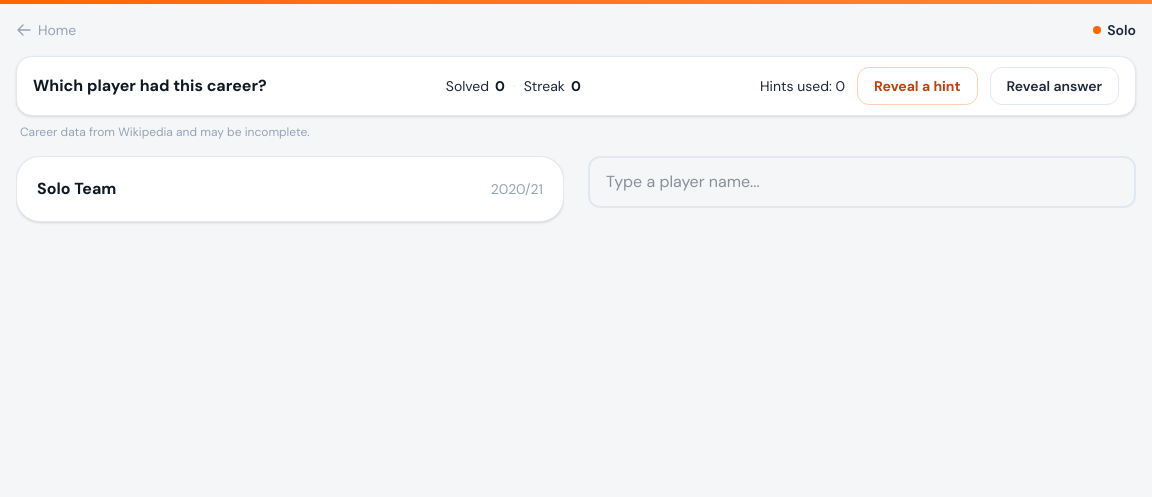
CareerQuizBoard multiplayer reveals › resets solo hints when advancing to the next solo round
Click the button "Reveal a hint": click(917, 86) [857,67,978,105]
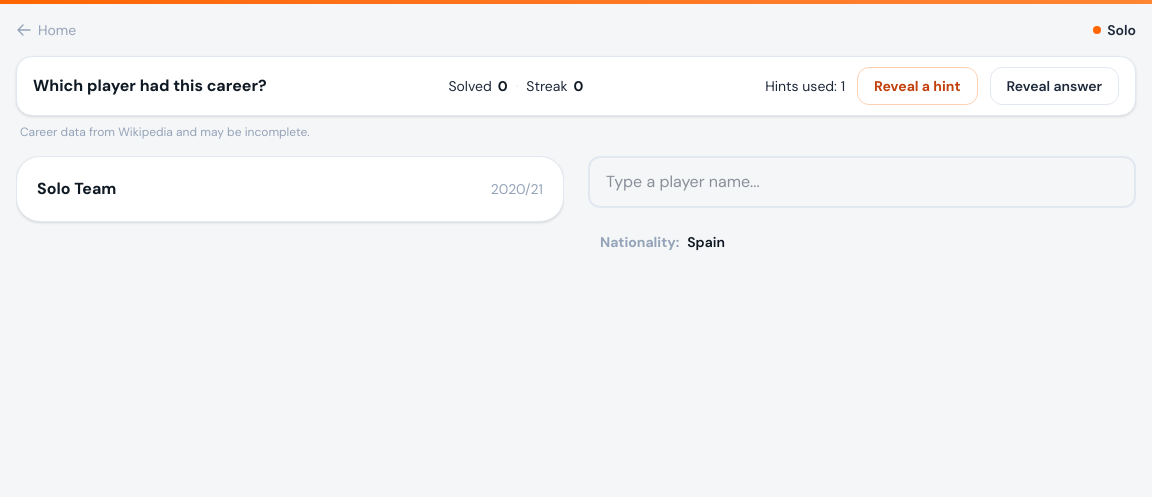
Check: the text "Spain" is shown, box [687,232,725,252]
Check: the text "Hints used: 1" is shown, box [765,76,845,96]
In the field with placeholder "Type a player name...": (862, 182) [588,156,1136,208], type "Solo Hit"
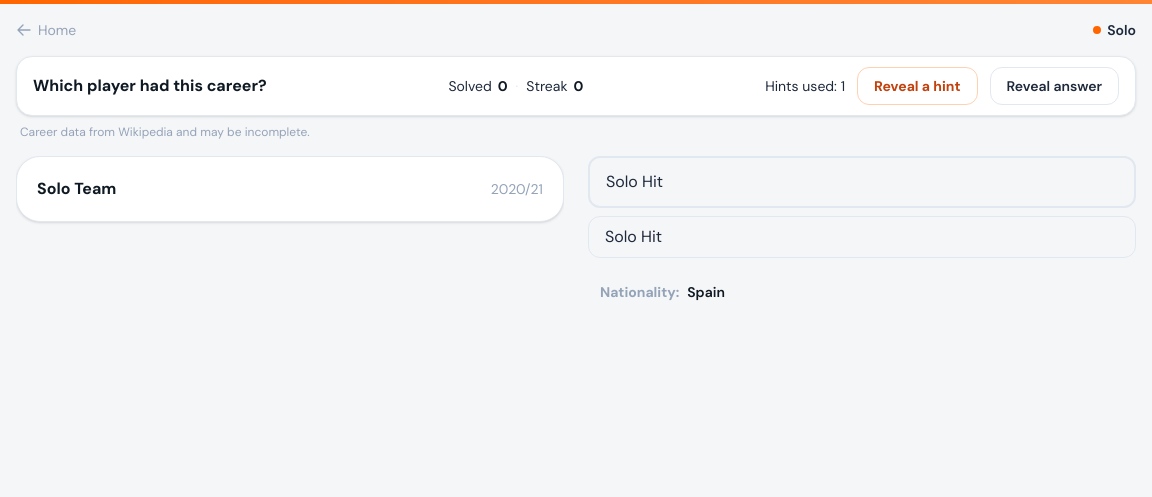
Click the button "Solo Hit": click(634, 236) [589,217,1135,257]
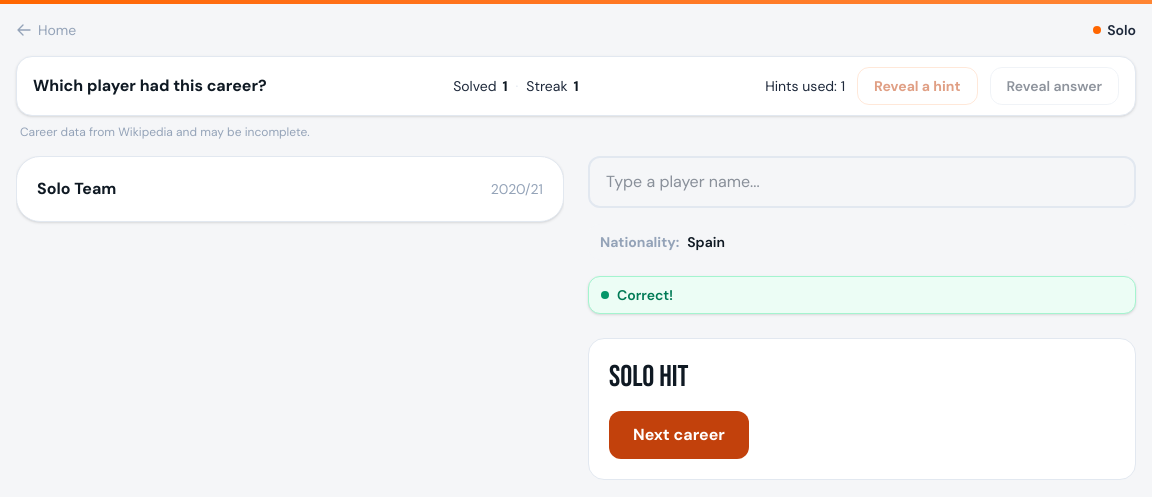
Click the button "Next career": click(679, 435) [609,411,749,459]
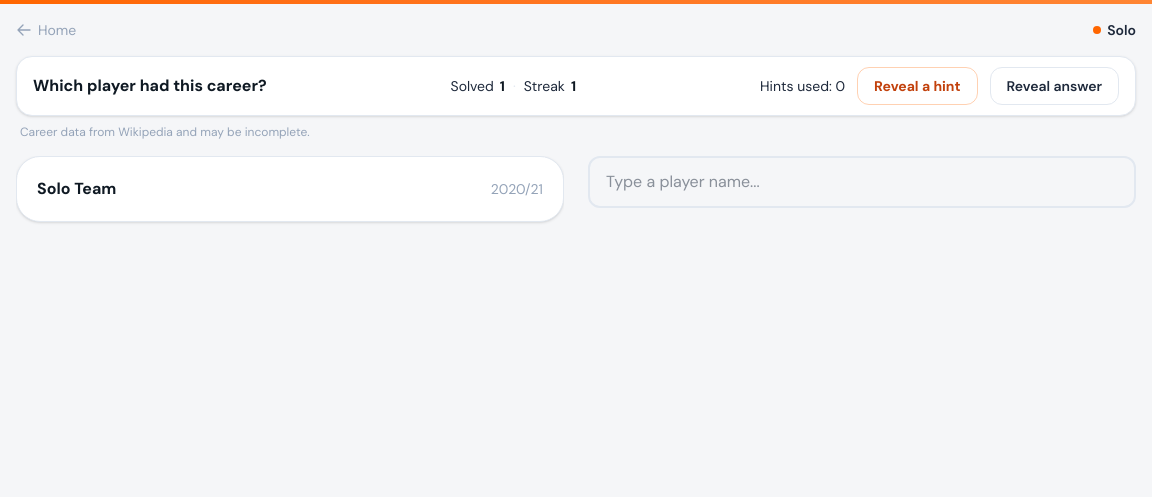
Check: the text "Spain" is gone
Check: the text "Hints used: 0" is shown, box [760,76,845,96]
